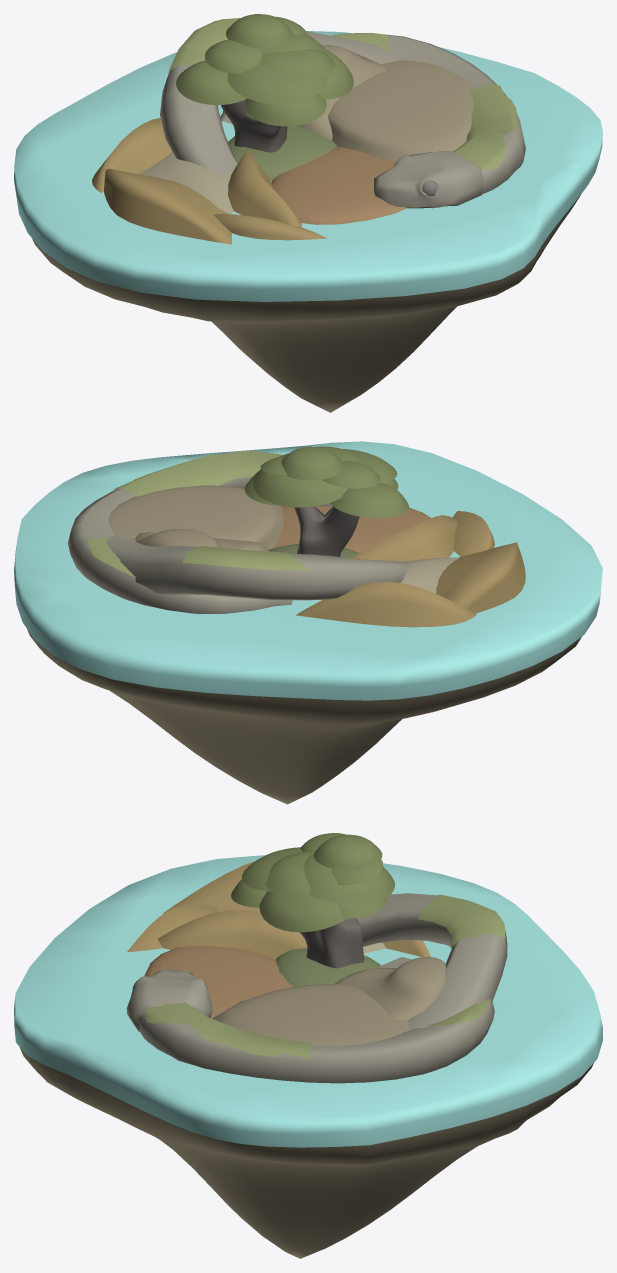
File: SummerMap_rough.fbx
The picture shows the model from 3 angles, top to bottom: view 1: azimuth 30°, elevation 25°; view 2: azimuth 150°, elevation 25°; view 3: azimuth 270°, elevation 25°; orthographic projection. The views are drawn at different scales.
Visible parts, largest first — view 1: Water, Field2, Field1, Mountain, Tree2, Snake3, Snake4, Snake1, Tree3, Tree1; view 2: Water, Field1, Snake3, Mountain, Field2, Tree2, Snake4, Tree1, Tree3; view 3: Water, Field1, Snake3, Field2, Tree2, Mountain, Snake4, Tree3, Snake1, Tree1.
Part boxes in pixels (x1=…): Water: x1=14, y1=31, x2=602, y2=301; Field2: x1=139, y1=45, x2=473, y2=224; Field1: x1=32, y1=195, x2=580, y2=412; Mountain: x1=92, y1=117, x2=327, y2=244; Tree2: x1=176, y1=14, x2=353, y2=126; Snake3: x1=160, y1=31, x2=525, y2=208; Snake4: x1=169, y1=18, x2=517, y2=170; Snake1: x1=374, y1=151, x2=483, y2=208; Tree3: x1=176, y1=14, x2=353, y2=126; Tree1: x1=220, y1=99, x2=287, y2=152; Water: x1=14, y1=441, x2=602, y2=700; Field1: x1=27, y1=629, x2=581, y2=804; Snake3: x1=68, y1=453, x2=409, y2=613; Mountain: x1=296, y1=511, x2=525, y2=627; Field2: x1=108, y1=485, x2=459, y2=593; Tree2: x1=245, y1=446, x2=408, y2=518; Snake4: x1=88, y1=451, x2=307, y2=577; Tree1: x1=294, y1=506, x2=359, y2=557; Tree3: x1=246, y1=446, x2=408, y2=517; Water: x1=14, y1=855, x2=602, y2=1147; Field1: x1=19, y1=1047, x2=593, y2=1258; Snake3: x1=138, y1=893, x2=507, y2=1083; Field2: x1=144, y1=942, x2=445, y2=1045; Tree2: x1=231, y1=833, x2=394, y2=932; Mountain: x1=127, y1=861, x2=430, y2=959; Snake4: x1=145, y1=894, x2=504, y2=1059; Tree3: x1=231, y1=833, x2=394, y2=931; Snake1: x1=126, y1=969, x2=212, y2=1031; Tree1: x1=300, y1=918, x2=364, y2=968.
Size of the model in its own units: 24173 by 16917 by 22828.
